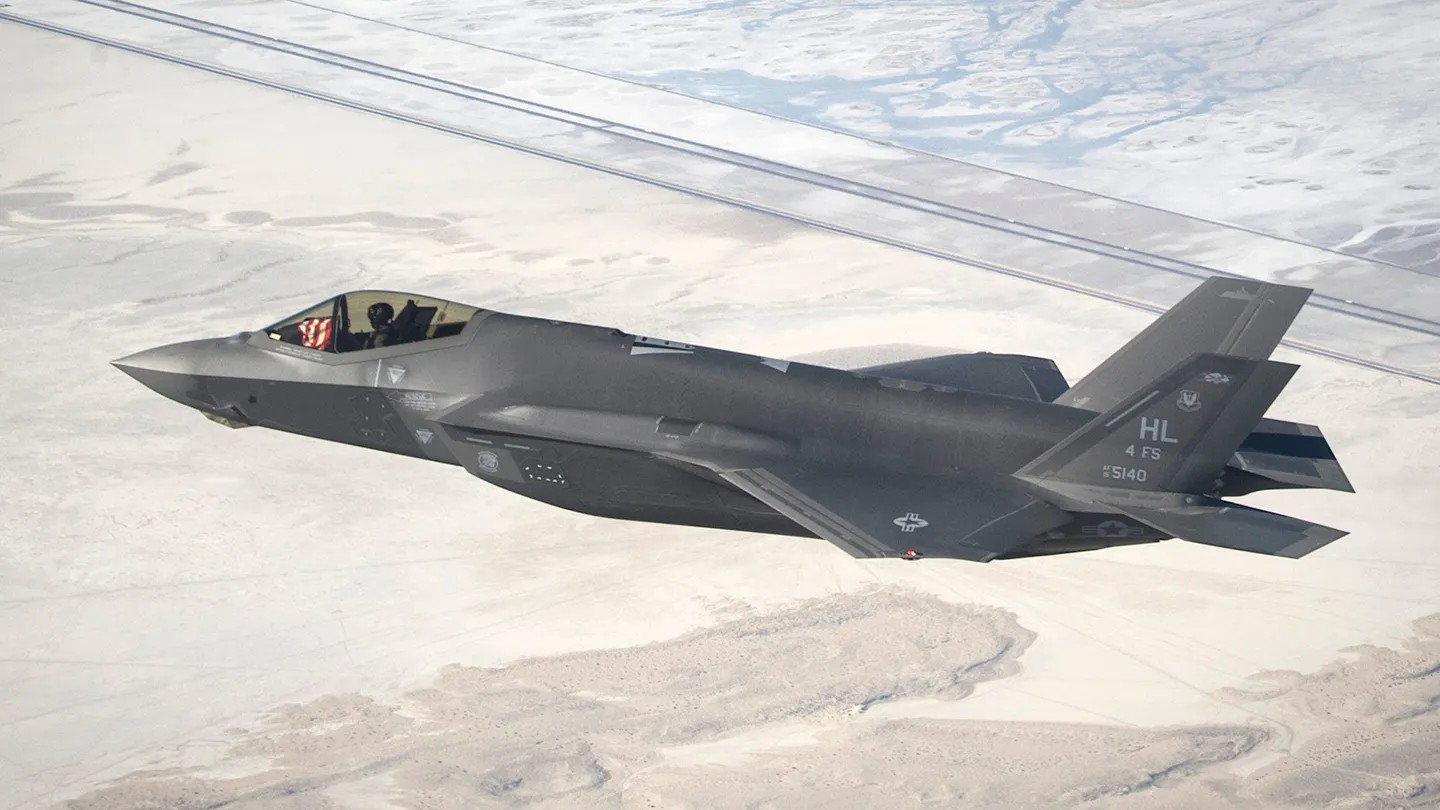F-35 Lightning: (102, 239, 1402, 618)
